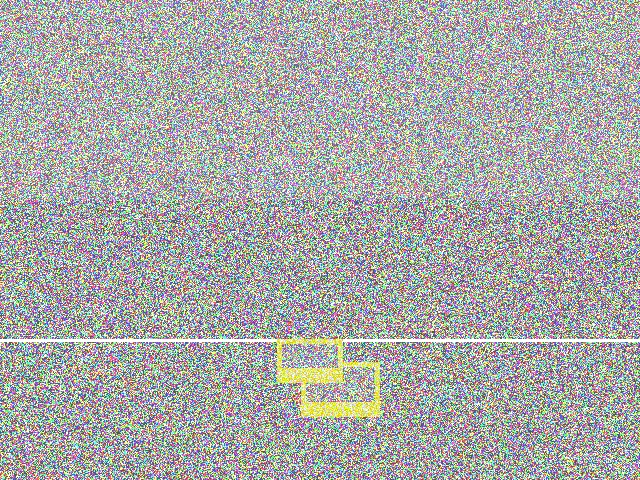bus: (31, 301, 156, 431)
